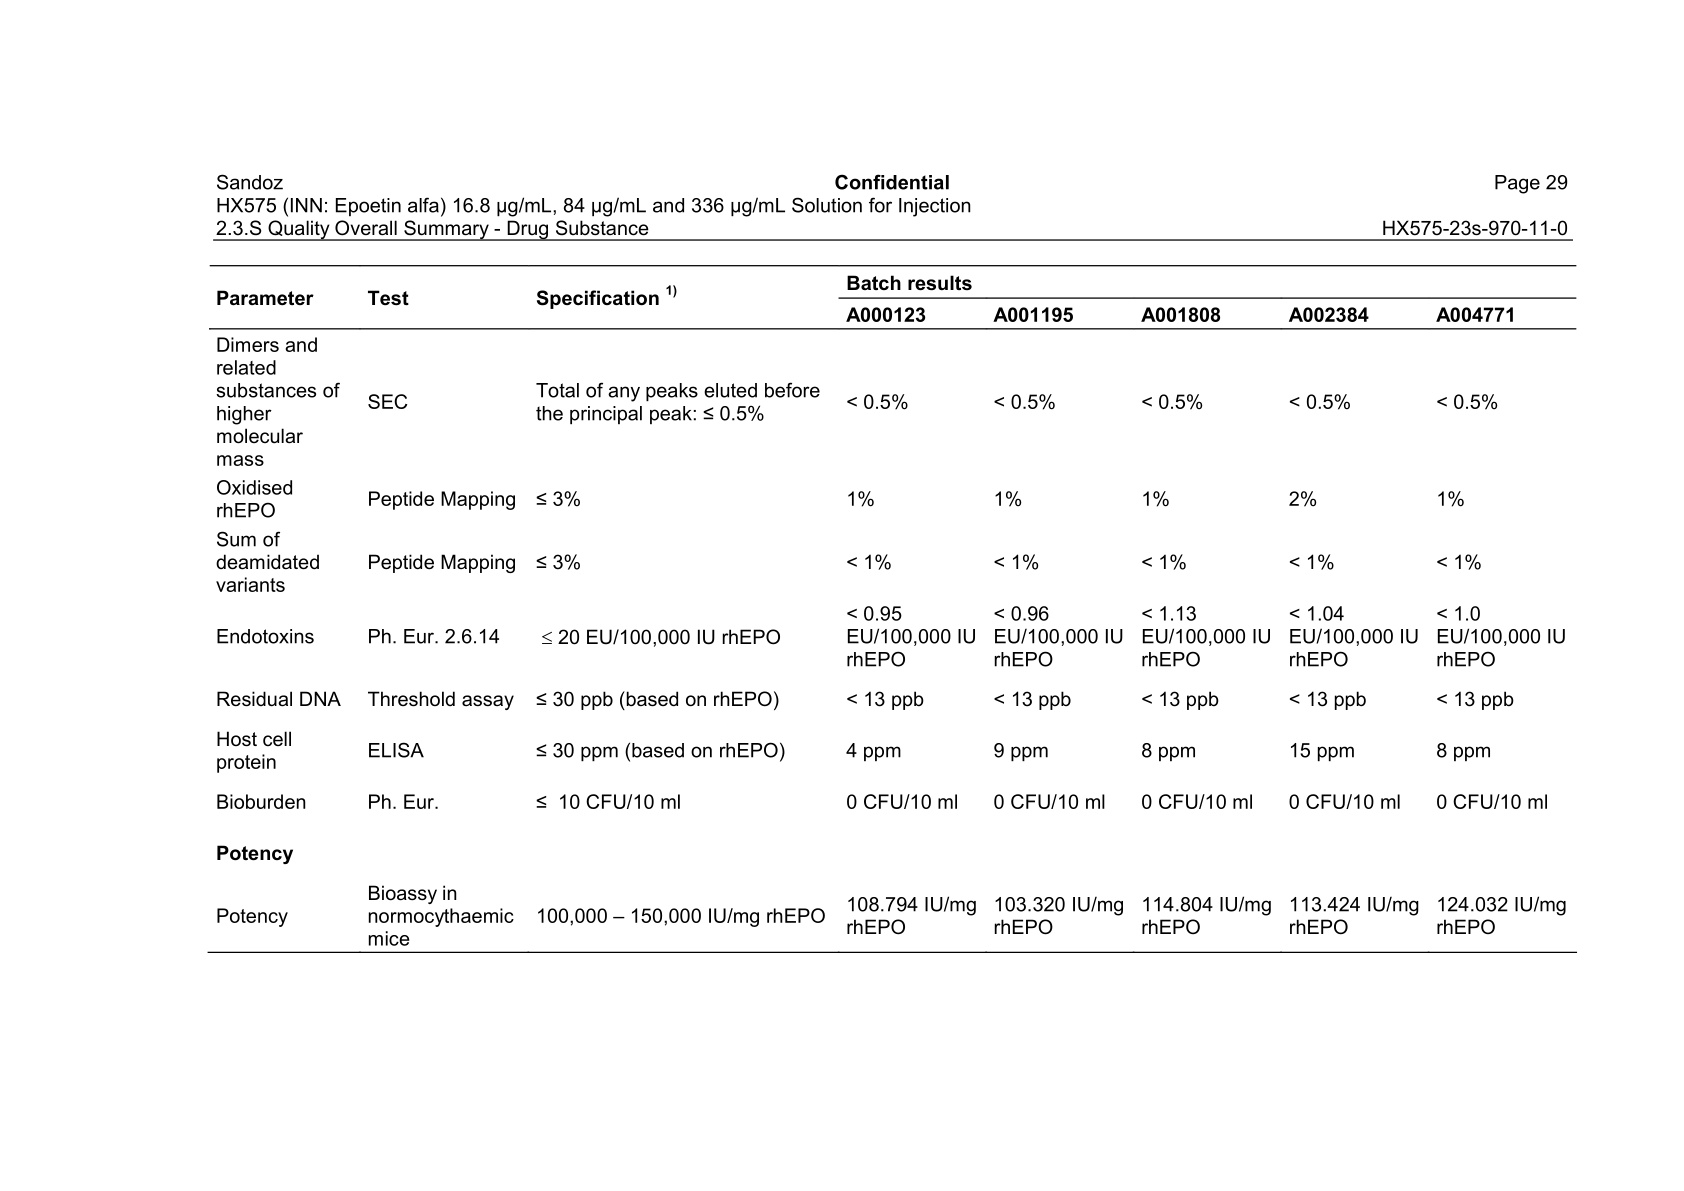partial_lined_merged_cells: (207, 263, 1578, 954)
